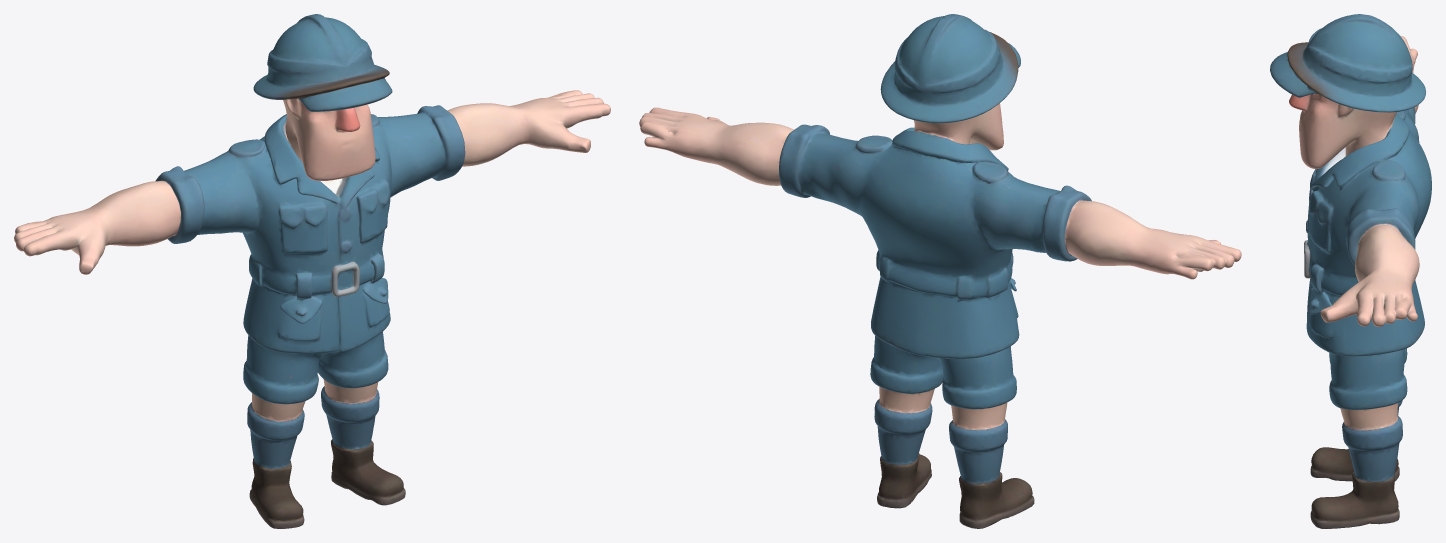
File: rifleman-trellis-master-bright.glb
3 renders of one model, left to right at view 1: azimuth 30°, elevation 25°; view 2: azimuth 150°, elevation 25°; view 3: azimuth 270°, elevation 25°, orthographic.
Visible parts, largest first — view 1: world; view 2: world; view 3: world.
Part boxes in pixels (x1=…): world: x1=14, y1=14, x2=610, y2=528; world: x1=639, y1=14, x2=1241, y2=528; world: x1=1270, y1=14, x2=1431, y2=528.
Bounding box in the file's own units: 1 × 0.7874 × 0.2397.
Materials: 1 (1 with a texture image).
